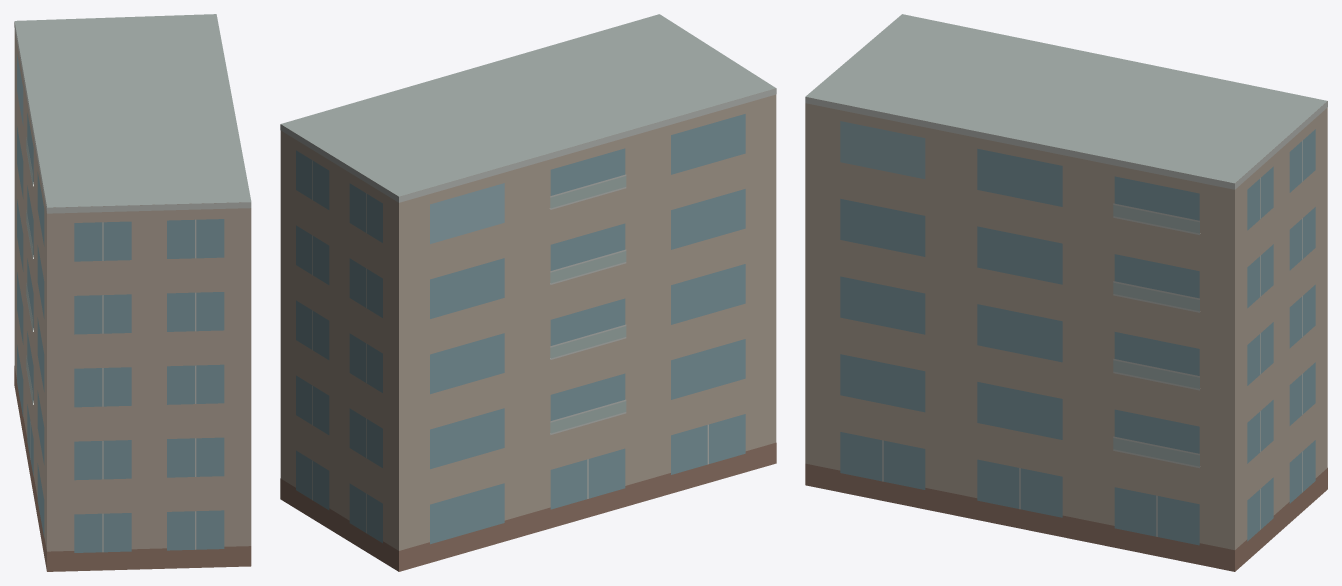
File: survey-upis-33039123.glb
3 renders of one model, left to right at view 1: azimuth 30°, elevation 25°; view 2: azimuth 150°, elevation 25°; view 3: azimuth 270°, elevation 25°, orthographic. The views are drawn at different scales.
Parts seen in each view (by area): view 1: survey-upis-33039123.tmp; view 2: survey-upis-33039123.tmp; view 3: survey-upis-33039123.tmp.
Boxes of the visible parts, bbox=[...] form: survey-upis-33039123.tmp: bbox=[14, 14, 251, 571]; survey-upis-33039123.tmp: bbox=[280, 14, 776, 571]; survey-upis-33039123.tmp: bbox=[805, 14, 1327, 571].
Bounding box in the file's own units: 13.85 × 14.8 × 18.05.
